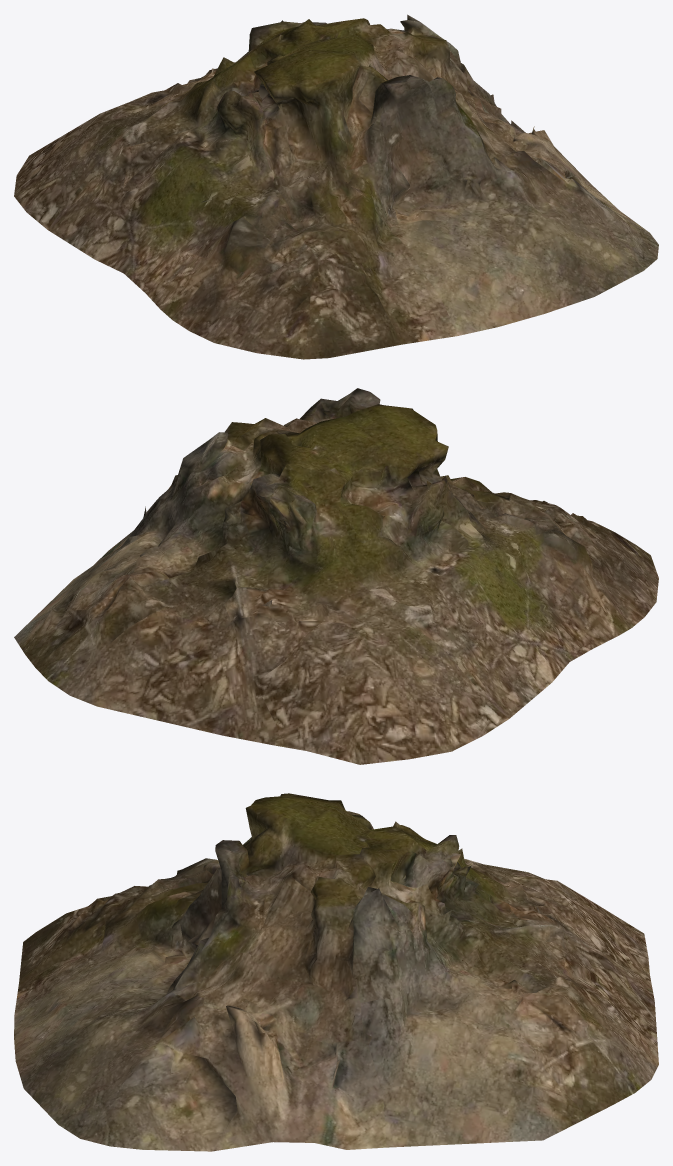
Rendered from tree_stump_01.glb.
3 renders of one model, top to bottom at view 1: azimuth 30°, elevation 25°; view 2: azimuth 150°, elevation 25°; view 3: azimuth 270°, elevation 25°, orthographic. The views are drawn at different scales.
Visible parts, largest first — view 1: tree_stump_01; view 2: tree_stump_01; view 3: tree_stump_01.
Boxes of the visible parts, bbox=[...] form: tree_stump_01: bbox=[14, 14, 658, 359]; tree_stump_01: bbox=[14, 388, 658, 764]; tree_stump_01: bbox=[14, 793, 658, 1151].
Size of the model in its own units: 1.43 by 0.571 by 1.59.
1 material, 1 textured.
